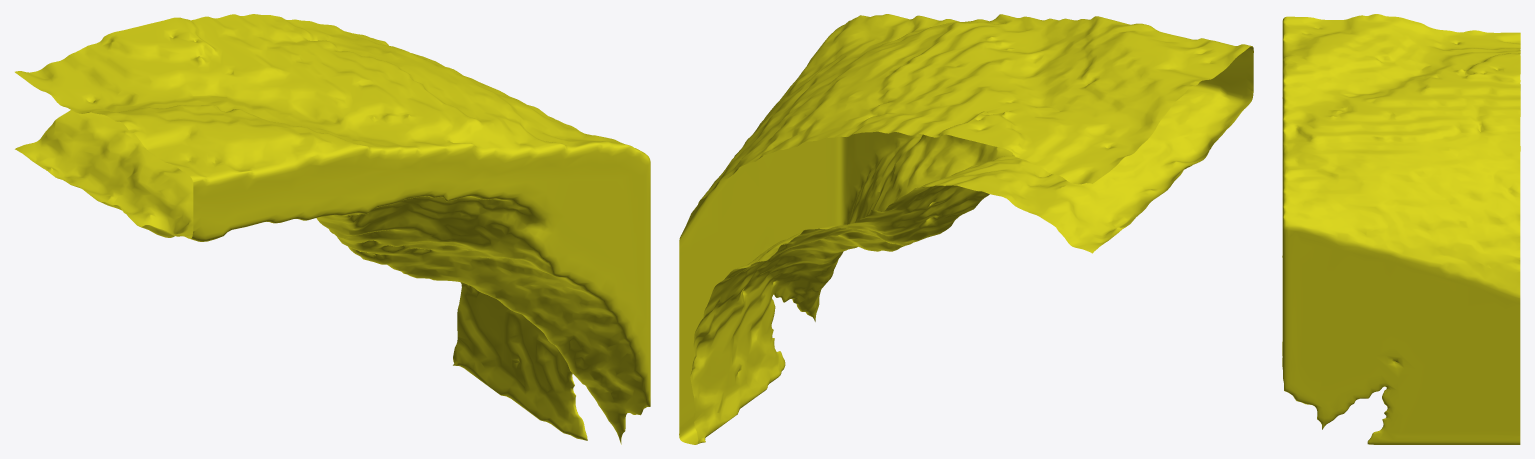
Rendered from Subcutaneous3.obj.
3 views of the same model, side by side, from view 1: azimuth 30°, elevation 25°; view 2: azimuth 150°, elevation 25°; view 3: azimuth 270°, elevation 25° (orthographic). The views are drawn at different scales.
Visible parts, largest first — view 1: subcutaneous_fat3; view 2: subcutaneous_fat3; view 3: subcutaneous_fat3.
Boxes of the visible parts, bbox=[...] form: subcutaneous_fat3: bbox=[15, 14, 650, 444]; subcutaneous_fat3: bbox=[679, 14, 1253, 444]; subcutaneous_fat3: bbox=[1282, 14, 1520, 444].
Size of the model in its own units: 0.1522 by 0.1349 by 0.1028.
